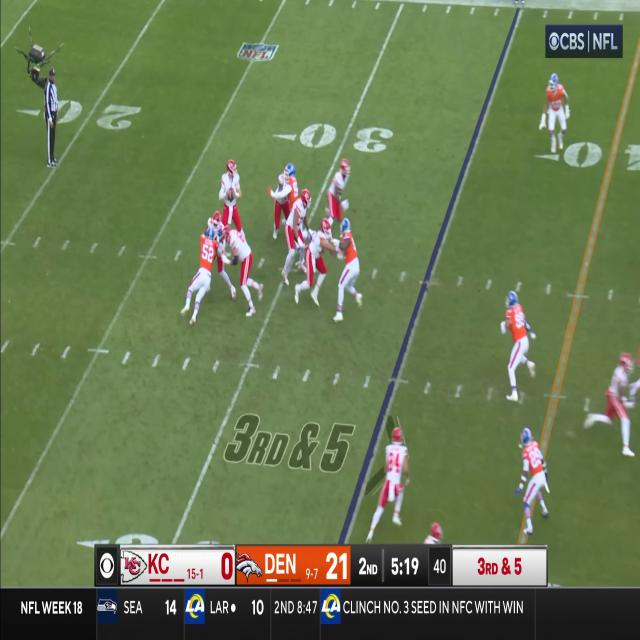Player: (600, 353, 638, 456), (500, 288, 534, 401), (377, 429, 409, 537), (516, 428, 546, 528), (222, 227, 255, 316), (187, 226, 216, 327), (299, 217, 330, 309), (284, 190, 312, 276), (541, 73, 571, 153), (335, 218, 358, 322), (217, 153, 248, 219), (328, 158, 350, 217), (283, 162, 299, 204)
Referee: (45, 66, 58, 172)
